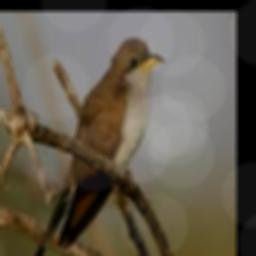Cuckoo: (9, 37, 164, 256)
